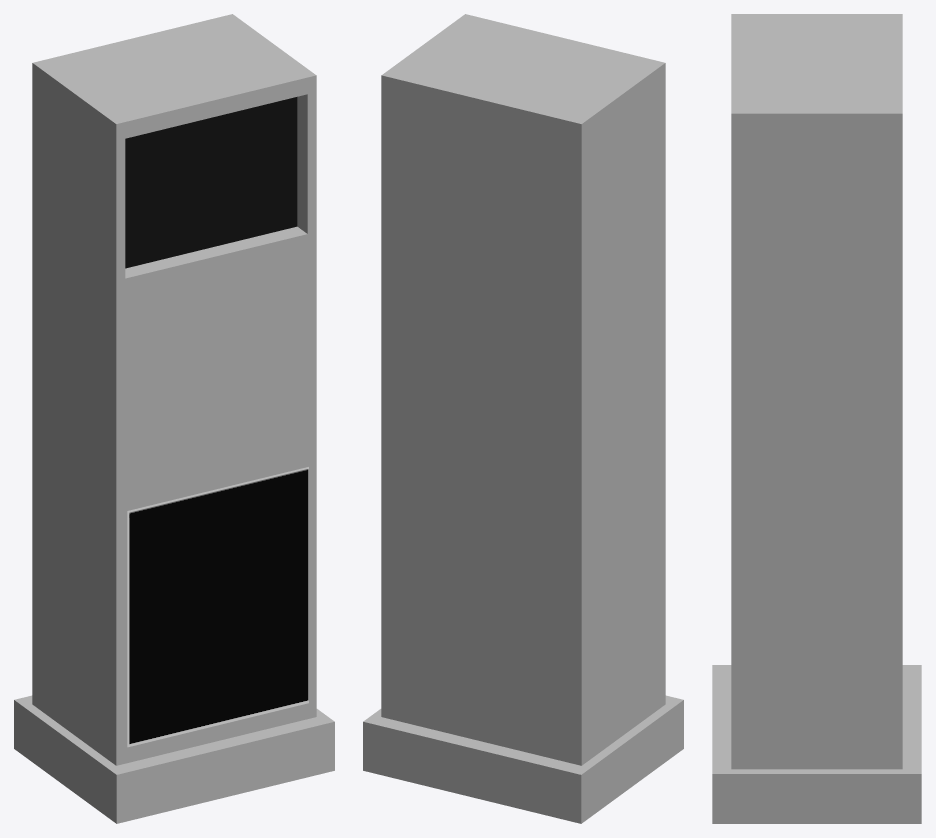
File: Itr_Airconditioner2_Body_01.FBX
3 views of the same model, side by side, from view 1: azimuth 30°, elevation 25°; view 2: azimuth 150°, elevation 25°; view 3: azimuth 270°, elevation 25° (orthographic). The views are drawn at different scales.
Parts seen in each view (by area): view 1: Itr_Airconditioner2_Body_01; view 2: Itr_Airconditioner2_Body_01; view 3: Itr_Airconditioner2_Body_01.
Part boxes in pixels (<box>): Itr_Airconditioner2_Body_01: <box>14,14,334,823</box>; Itr_Airconditioner2_Body_01: <box>363,14,683,823</box>; Itr_Airconditioner2_Body_01: <box>712,14,921,823</box>.
Bounding box in the file's own units: 26.9 × 81.38 × 21.9.
